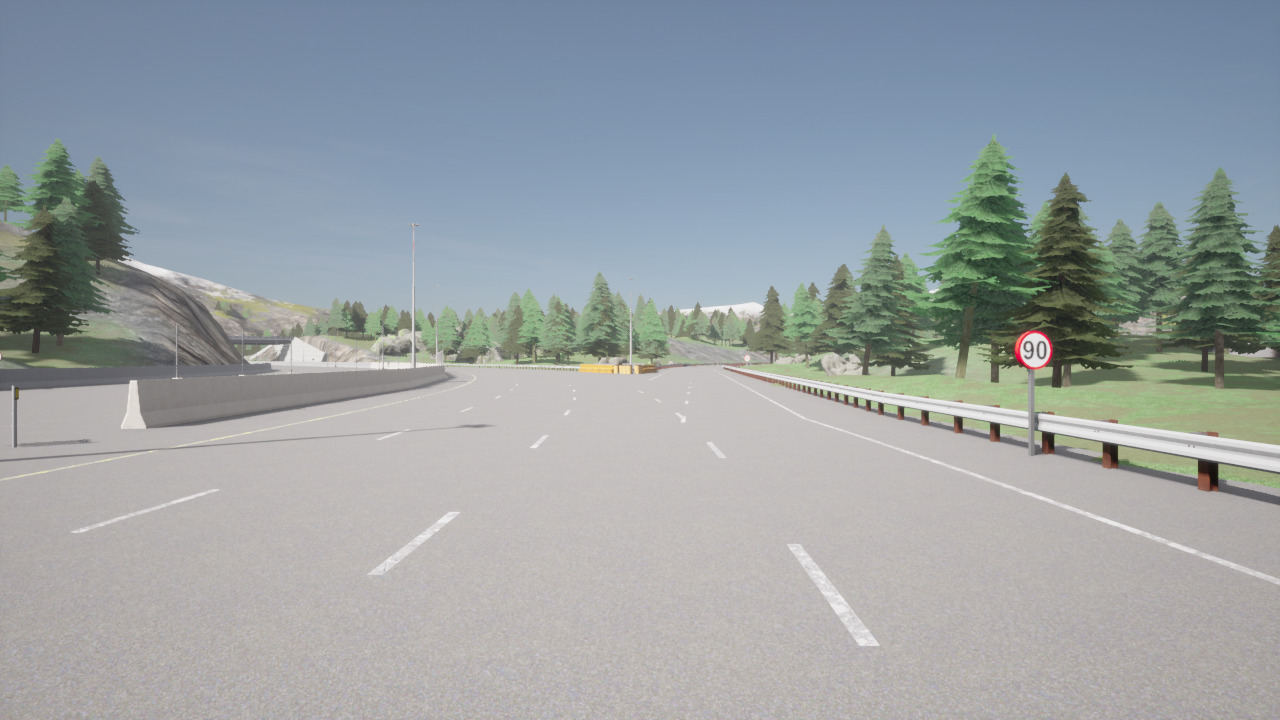sl90: (1013, 329, 1054, 370)
